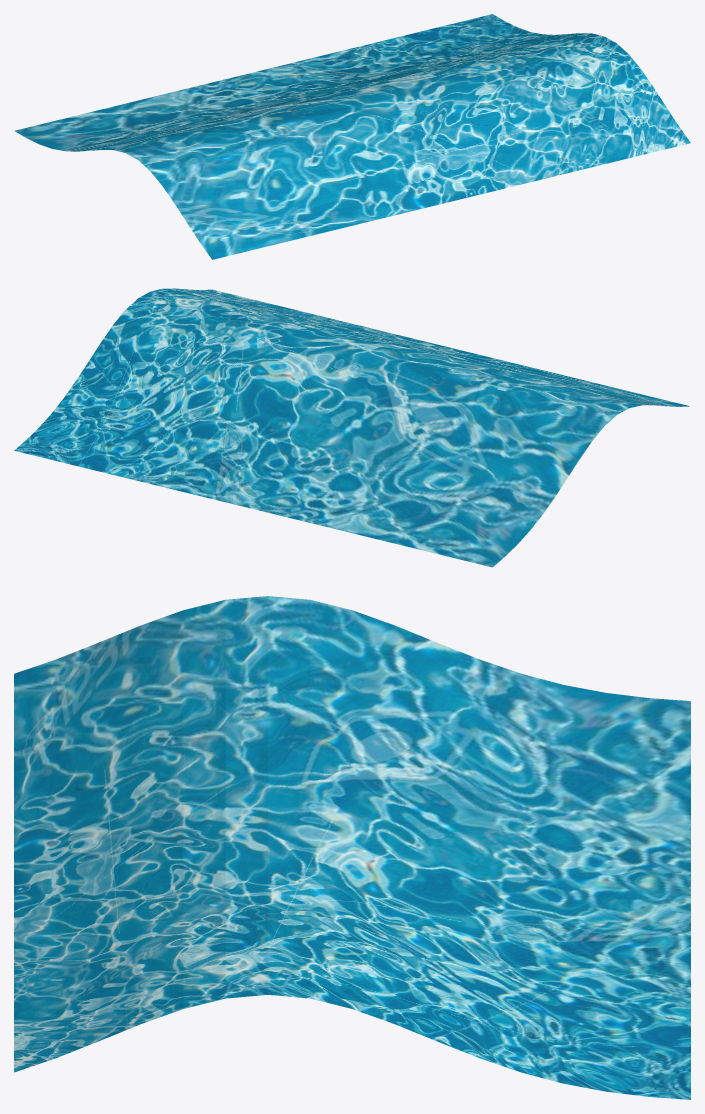
File: Olas11.obj
3 renders of one model, top to bottom at view 1: azimuth 30°, elevation 25°; view 2: azimuth 150°, elevation 25°; view 3: azimuth 270°, elevation 25°, orthographic. The views are drawn at different scales.
Parts seen in each view (by area): view 1: Plane; view 2: Plane; view 3: Plane.
Boxes of the visible parts, x1,y1,x2,y2 form: Plane: (14, 14, 690, 259); Plane: (14, 288, 689, 567); Plane: (14, 596, 690, 1099).
Bounding box in the file's own units: 13.82 × 1.7 × 9.91.
